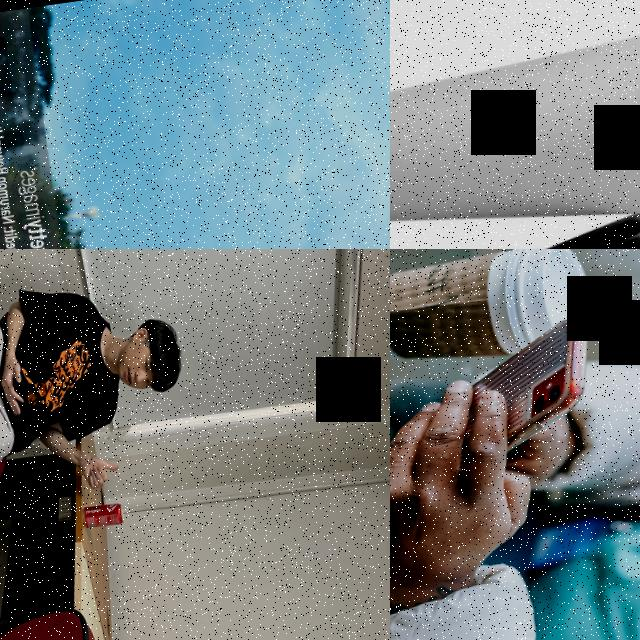can: (80, 502, 124, 530)
cup: (390, 14, 640, 249), (390, 249, 594, 376)
